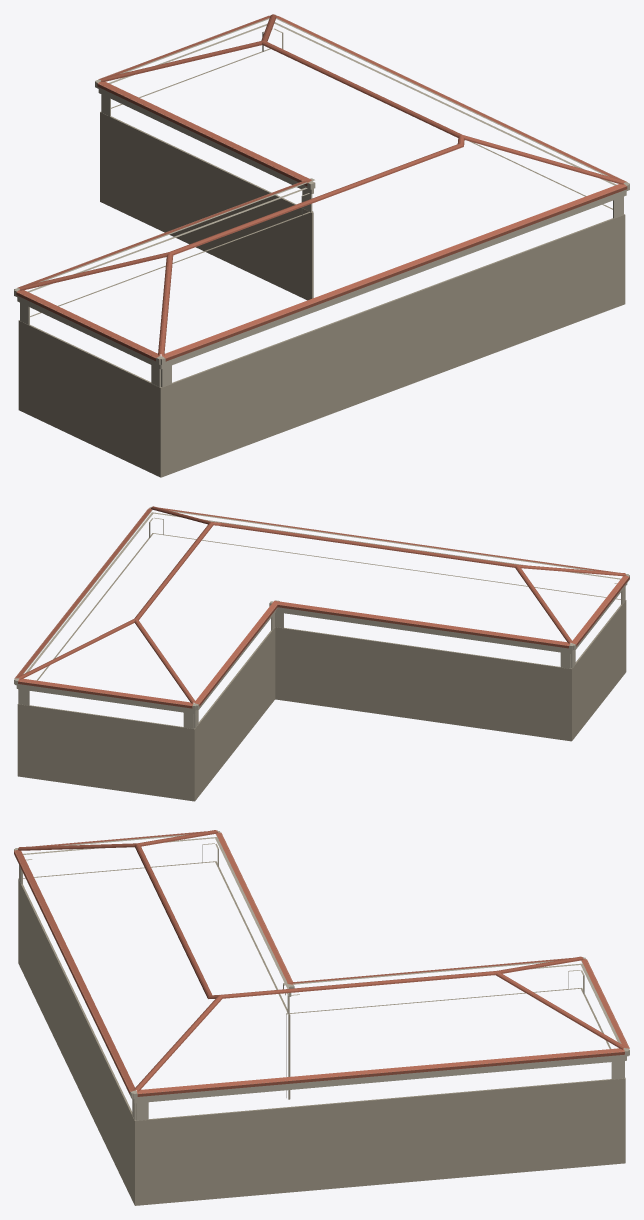
3 views of the same model, one above another, from view 1: azimuth 30°, elevation 25°; view 2: azimuth 150°, elevation 25°; view 3: azimuth 270°, elevation 25° (orthographic). The views are drawn at different scales.
Visible parts, largest first — view 1: detail; view 2: detail; view 3: detail.
Part boxes in pixels (bbox=[...]): detail: bbox=[14, 14, 629, 477]; detail: bbox=[14, 506, 629, 801]; detail: bbox=[14, 830, 629, 1205].
Bounding box in the file's own units: 30.48 × 8.43 × 30.1.
